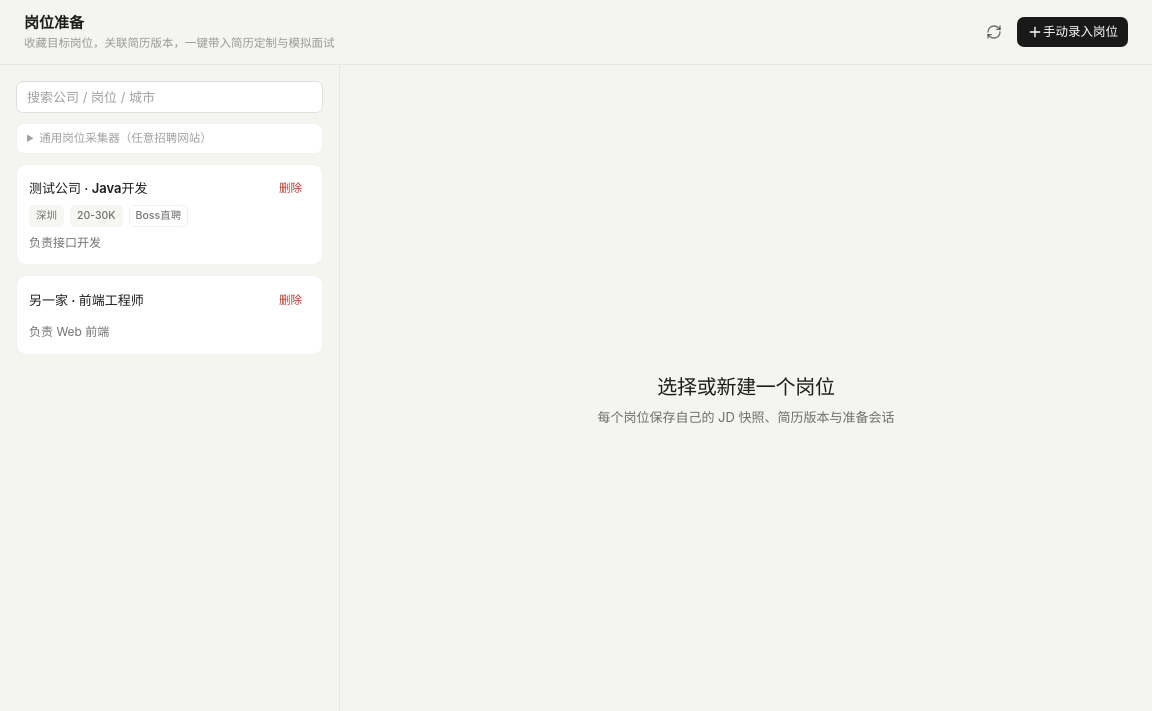
Scenario: PreparationPage › 加载并渲染岗位列表，点击选择后展示 JD 快照与版本工作台
The image size is (1152, 711).
Click the text "测试公司 · Java开发".
click(88, 189)  # box [29, 179, 148, 199]
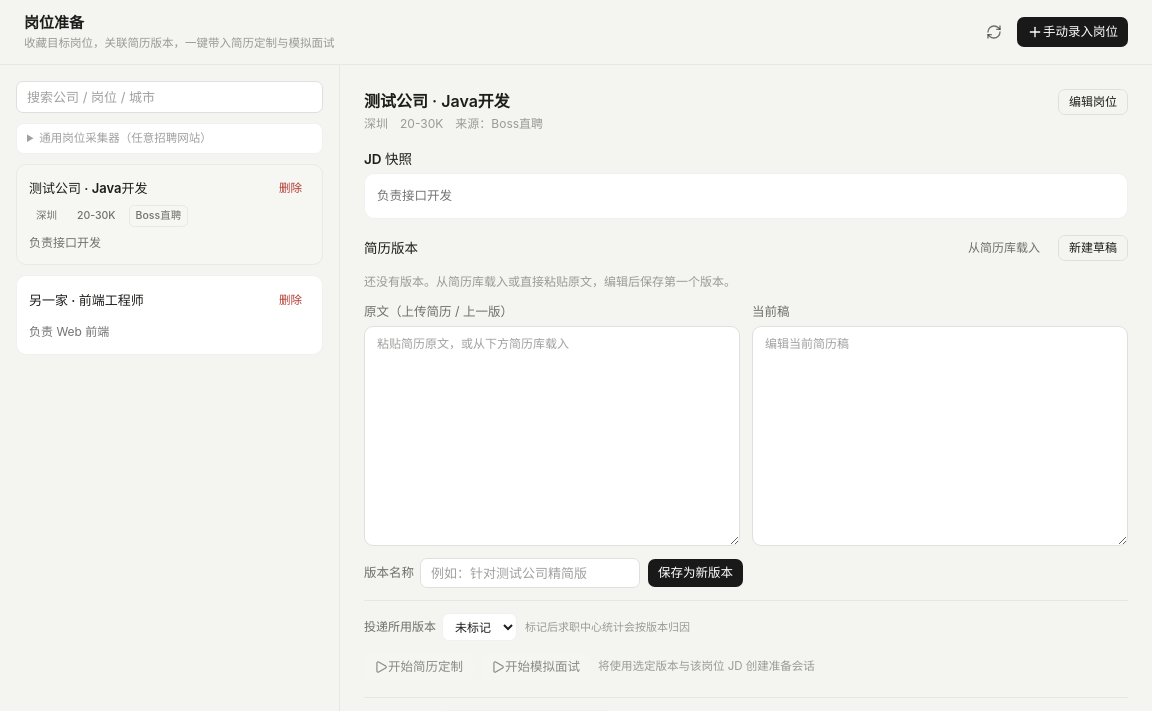
Expected: the heading "JD 快照" is shown, [364, 151, 412, 167]
Expected: the element with test id "resume-workspace" is shown, [364, 235, 1128, 681]
